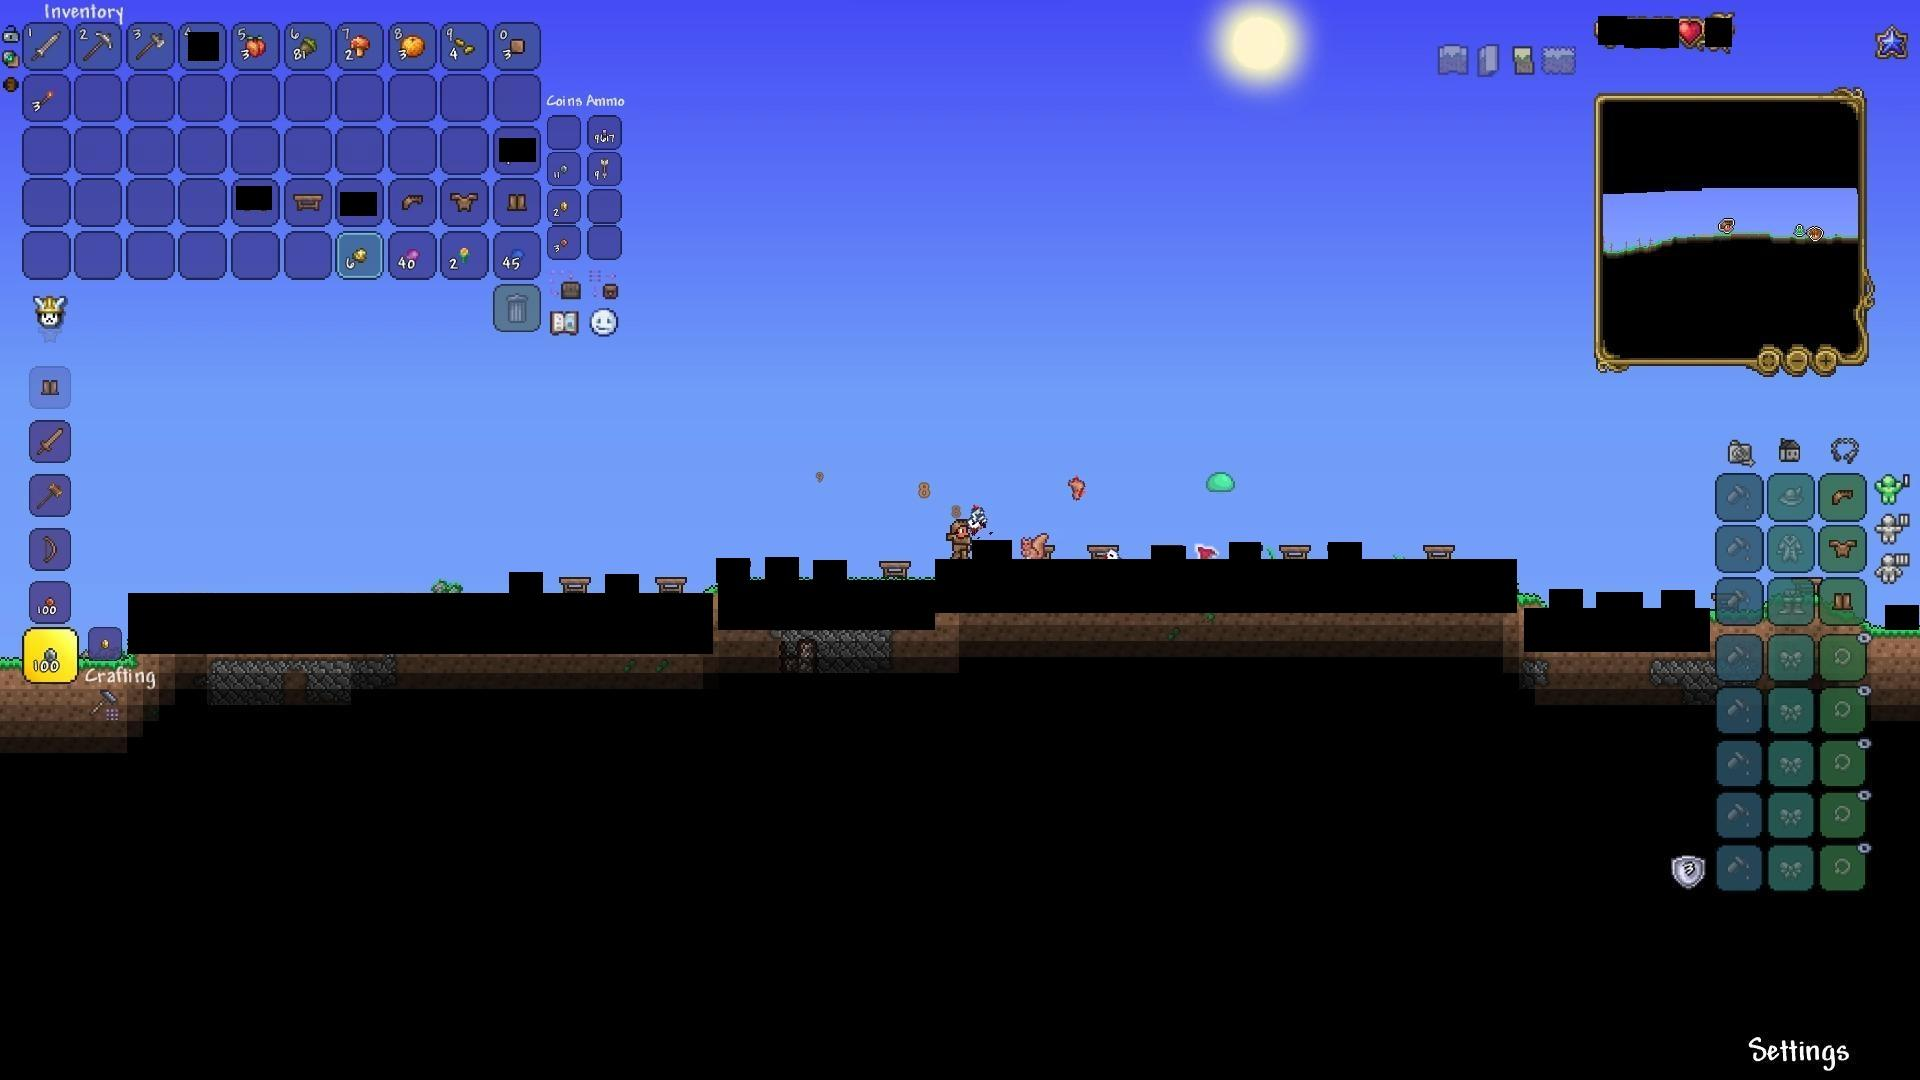breastplate: (451, 193, 480, 214), (1832, 537, 1859, 558)
dirt: (1876, 622, 1920, 674)
heart: (1677, 18, 1702, 47)
helmet: (1829, 484, 1858, 510), (400, 190, 429, 215)
legs: (1832, 588, 1855, 615), (504, 193, 527, 219)
slime: (1207, 467, 1237, 495)
workbench: (877, 558, 911, 585), (293, 190, 328, 214), (1423, 545, 1457, 568), (654, 575, 687, 599), (1085, 543, 1116, 568), (560, 578, 593, 600), (1279, 545, 1309, 567)
